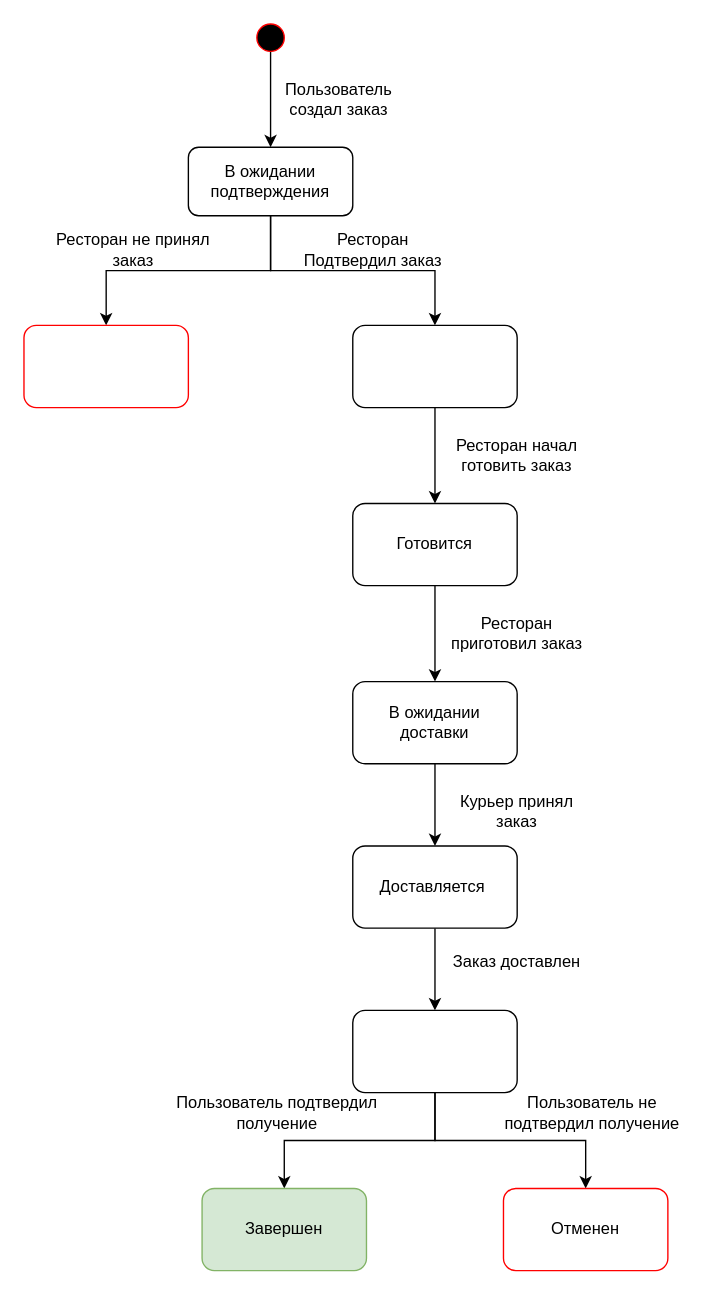
The diagram is 719 pixels wide and 1295 high, and some of its shapes have lost their labels. The shapes that lost their labels are listed below. From the top down, each one's centre as x and y in pixels, then its label:
pixel 105 366: Отмненен
pixel 434 366: В работе
pixel 434 1051: Доставлен
